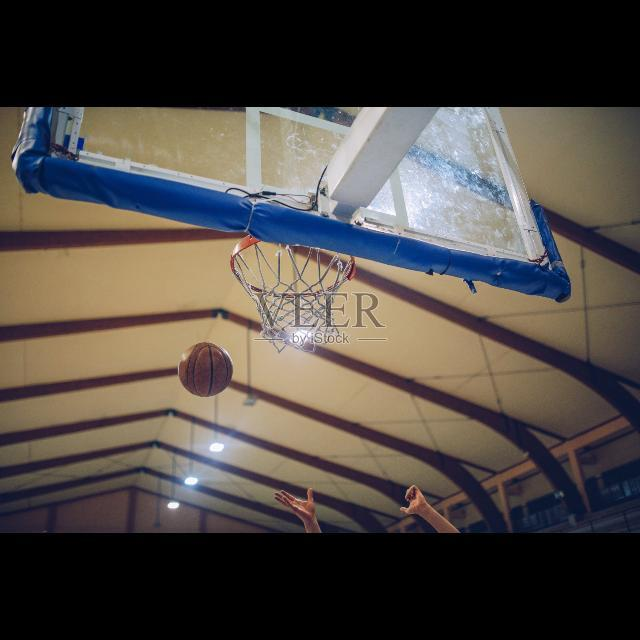basketball: (178, 342, 232, 396)
rim: (232, 230, 356, 352)
